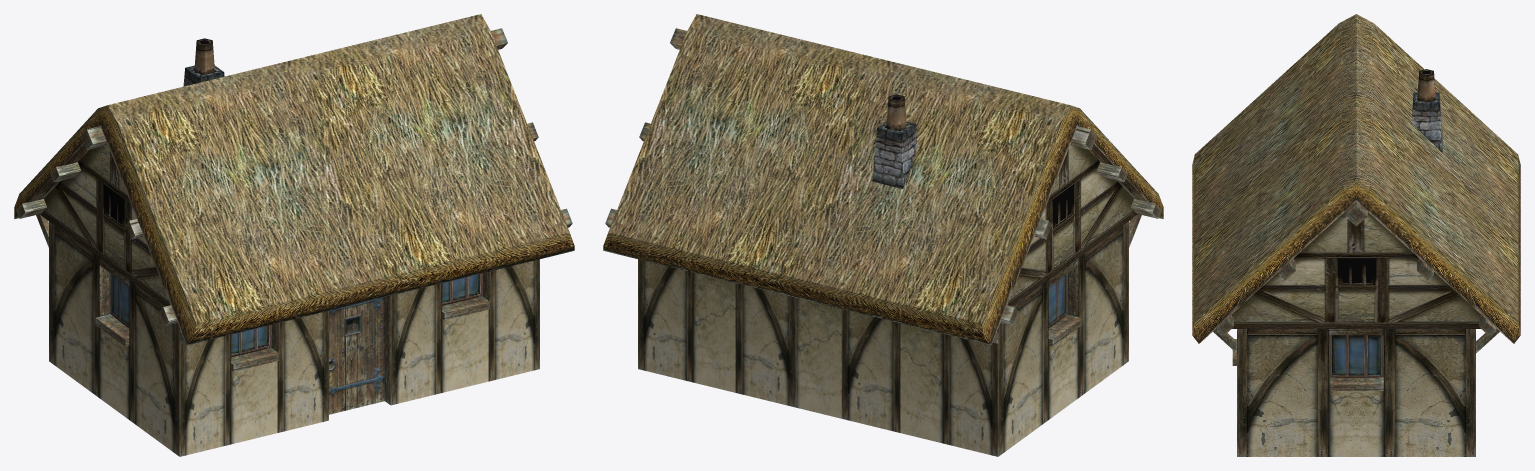
File: S_home32.glb
The picture shows the model from 3 angles, left to right: view 1: azimuth 30°, elevation 25°; view 2: azimuth 150°, elevation 25°; view 3: azimuth 270°, elevation 25°; orthographic projection. The views are drawn at different scales.
Visible parts, largest first — view 1: S_home32-col; view 2: S_home32-col; view 3: S_home32-col.
Part boxes in pixels (x1=…): S_home32-col: x1=14, y1=14, x2=574, y2=456; S_home32-col: x1=603, y1=14, x2=1163, y2=456; S_home32-col: x1=1192, y1=14, x2=1520, y2=456.
Size of the model in its own units: 8.07 by 5.71 by 6.05.
9 materials, 9 textured.
